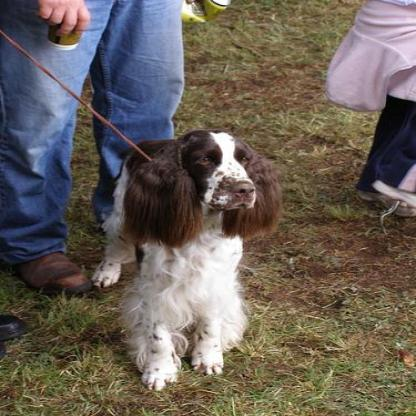English_springer: (88, 128, 284, 392)
